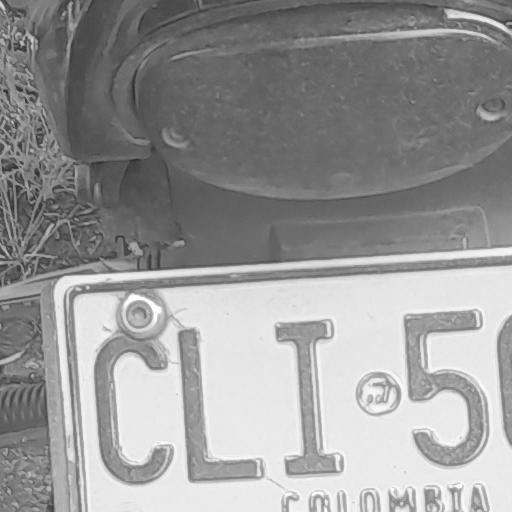placa: (48, 256, 512, 512)
